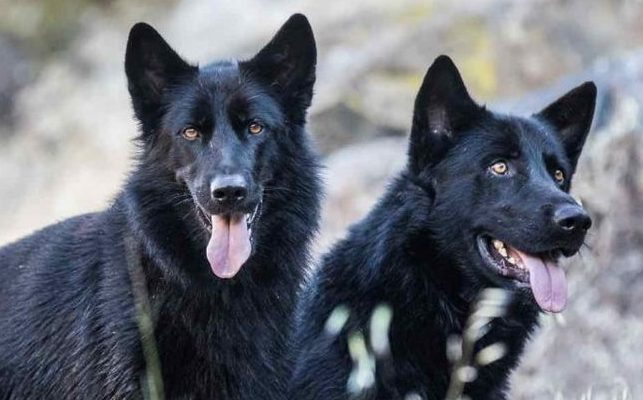Lobo: (370, 20, 601, 391), (96, 19, 336, 365)
